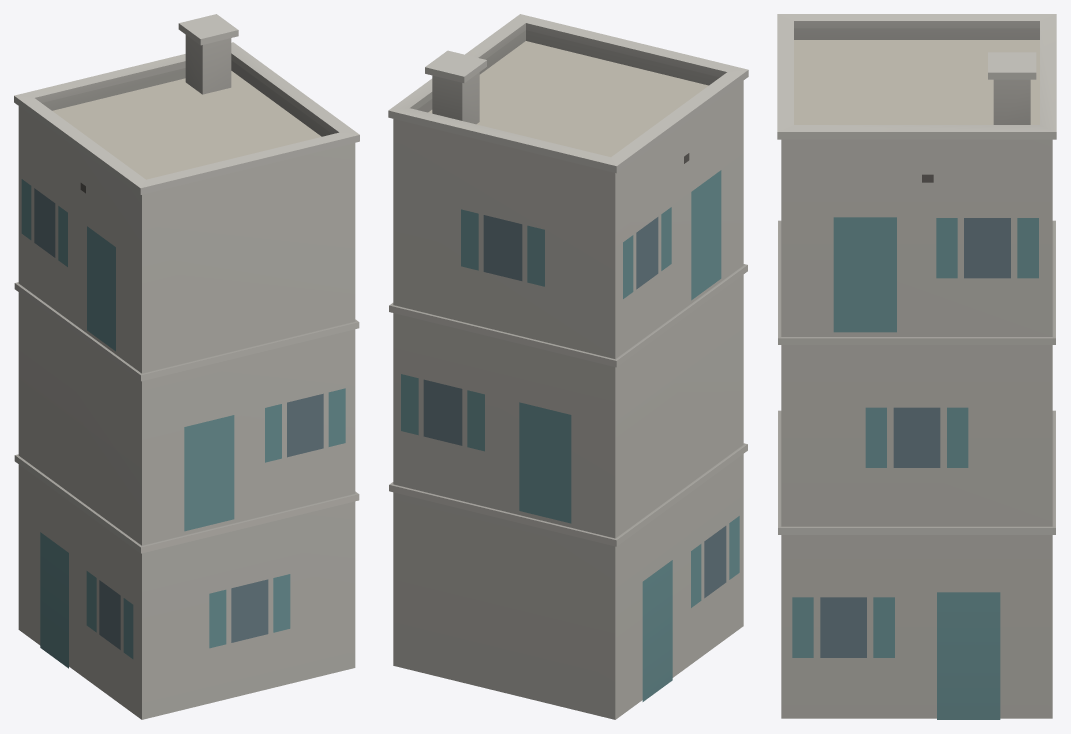
3 renders of one model, left to right at view 1: azimuth 30°, elevation 25°; view 2: azimuth 150°, elevation 25°; view 3: azimuth 270°, elevation 25°, orthographic. The views are drawn at different scales.
Size of the model in its own units: 4.4 by 11.02 by 4.4.
